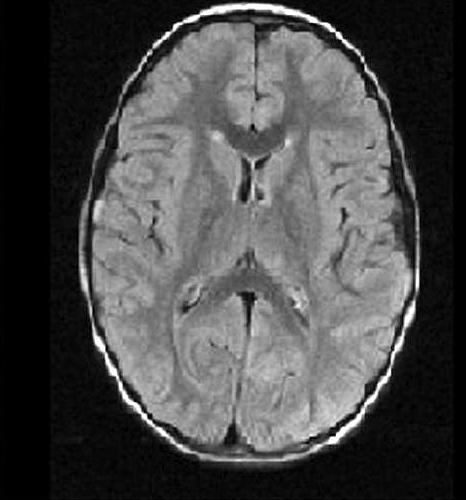Normal_Brain: (46, 1, 419, 472)
